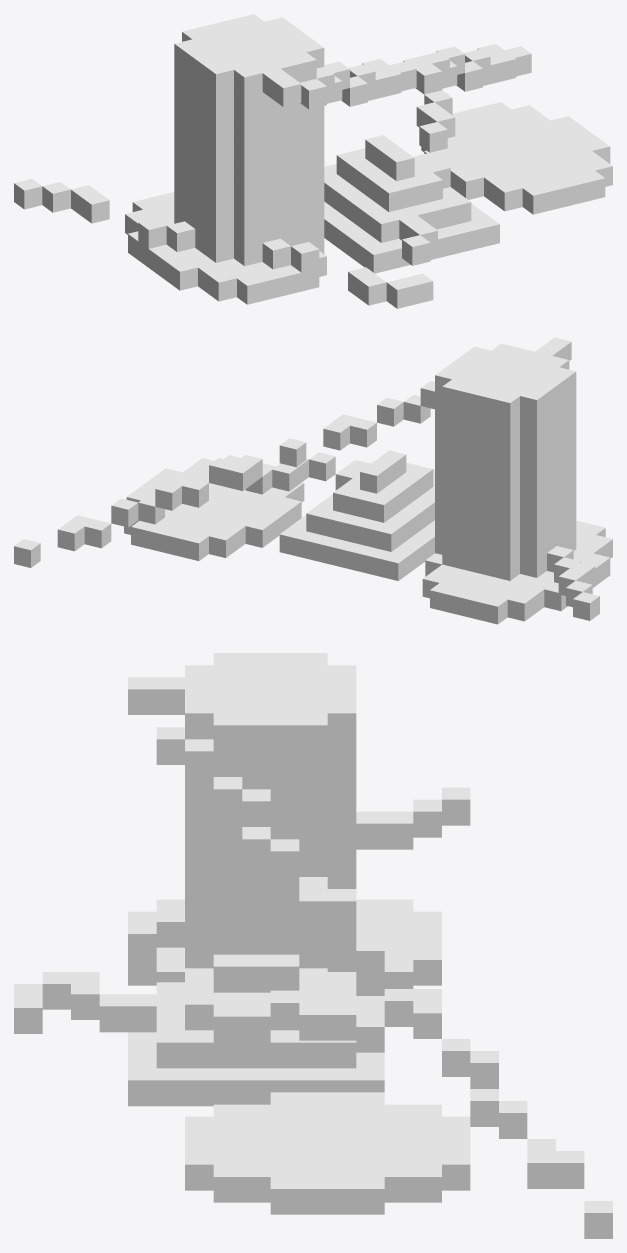
3 renders of one model, top to bottom at view 1: azimuth 30°, elevation 25°; view 2: azimuth 150°, elevation 25°; view 3: azimuth 270°, elevation 25°, orthographic. The views are drawn at different scales.
Visible parts, largest first — view 1: Layer.1; view 2: Layer.1; view 3: Layer.1.
Boxes of the visible parts, x1=… form: Layer.1: x1=14, y1=14, x2=612, y2=308; Layer.1: x1=14, y1=337, x2=612, y2=624; Layer.1: x1=14, y1=653, x2=612, y2=1238.
Size of the model in its own units: 31 by 11 by 21.
1 material, 1 textured.
